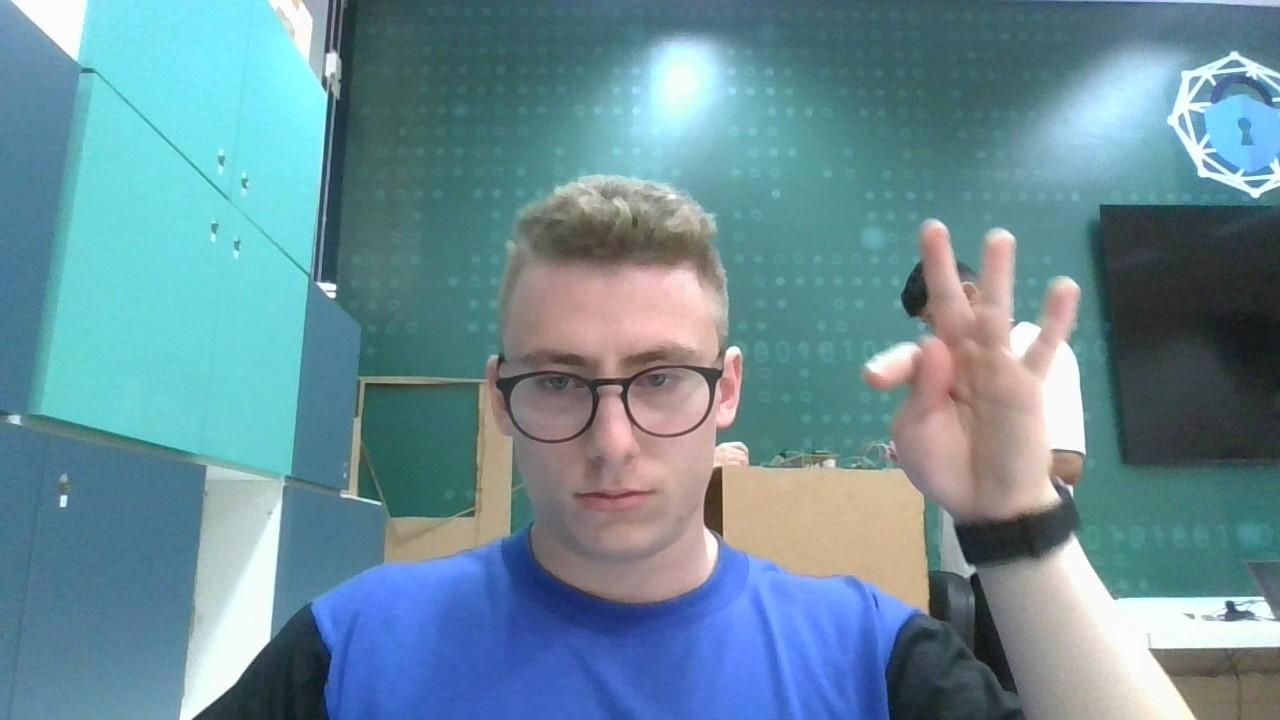T: (860, 214, 1084, 528)
